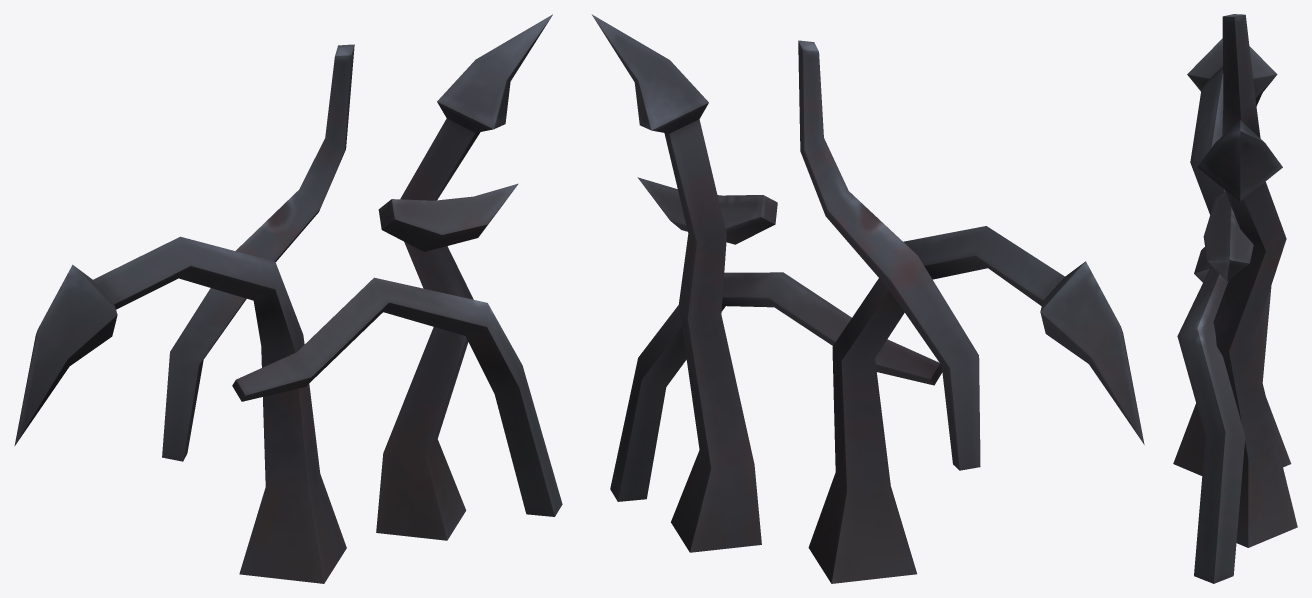
File: metal_fence_broken01.fbx
3 views of the same model, side by side, from view 1: azimuth 30°, elevation 25°; view 2: azimuth 150°, elevation 25°; view 3: azimuth 270°, elevation 25° (orthographic). The views are drawn at different scales.
Parts seen in each view (by area): view 1: metal_fence_broken01; view 2: metal_fence_broken01; view 3: metal_fence_broken01.
Boxes of the visible parts, x1=… form: metal_fence_broken01: x1=14, y1=14, x2=562, y2=583; metal_fence_broken01: x1=591, y1=14, x2=1144, y2=583; metal_fence_broken01: x1=1173, y1=14, x2=1297, y2=583.
Size of the model in its own units: 195 by 172 by 40.79.
